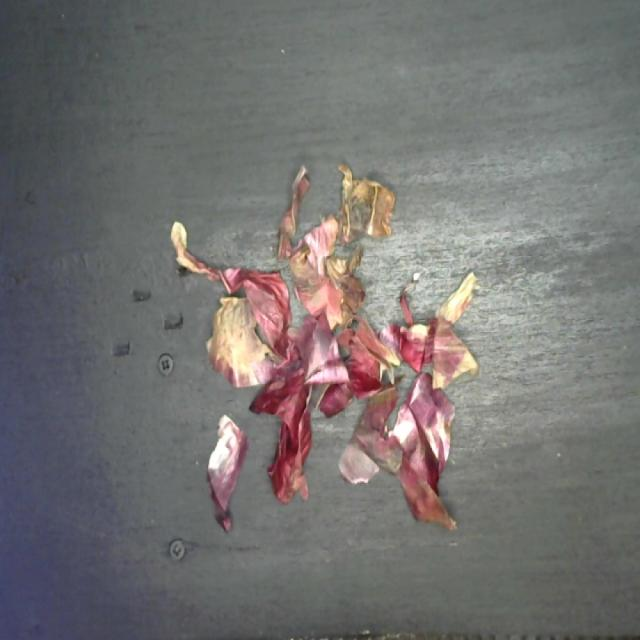biodegradable: (166, 164, 480, 537)
